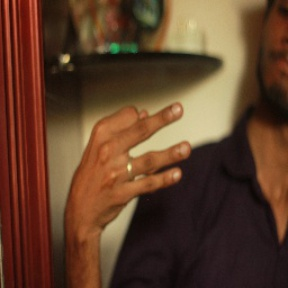K: (64, 97, 194, 222)
